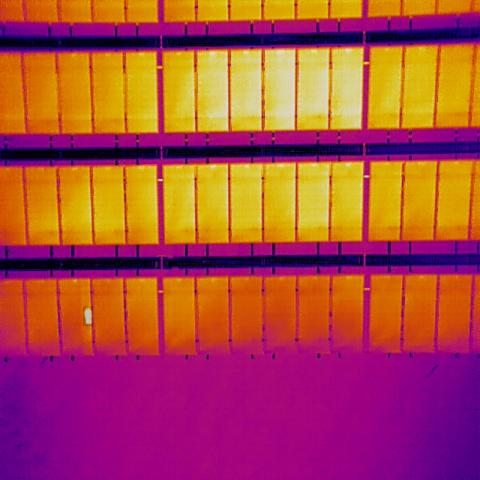fault: (83, 306, 93, 326)
